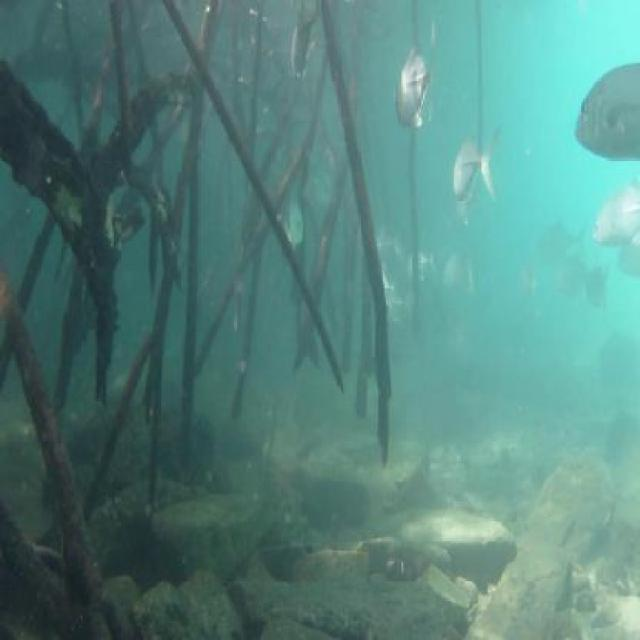Caranx_sexfasciatus_juvenile: (571, 55, 640, 162), (390, 32, 438, 145), (448, 129, 498, 225), (529, 208, 585, 278), (587, 181, 640, 253), (289, 1, 326, 96), (273, 176, 305, 264), (434, 242, 472, 312), (404, 230, 438, 302), (548, 245, 584, 302), (366, 218, 402, 272), (578, 260, 610, 318), (368, 273, 400, 324), (609, 241, 636, 294)
